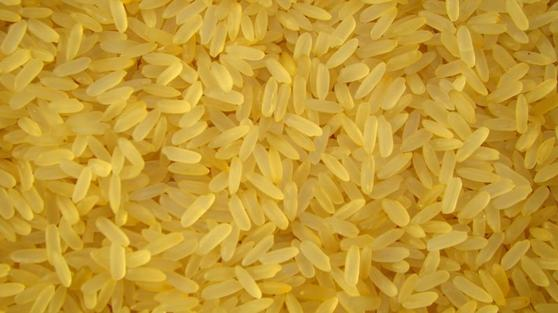rice: (17, 16, 530, 291)
